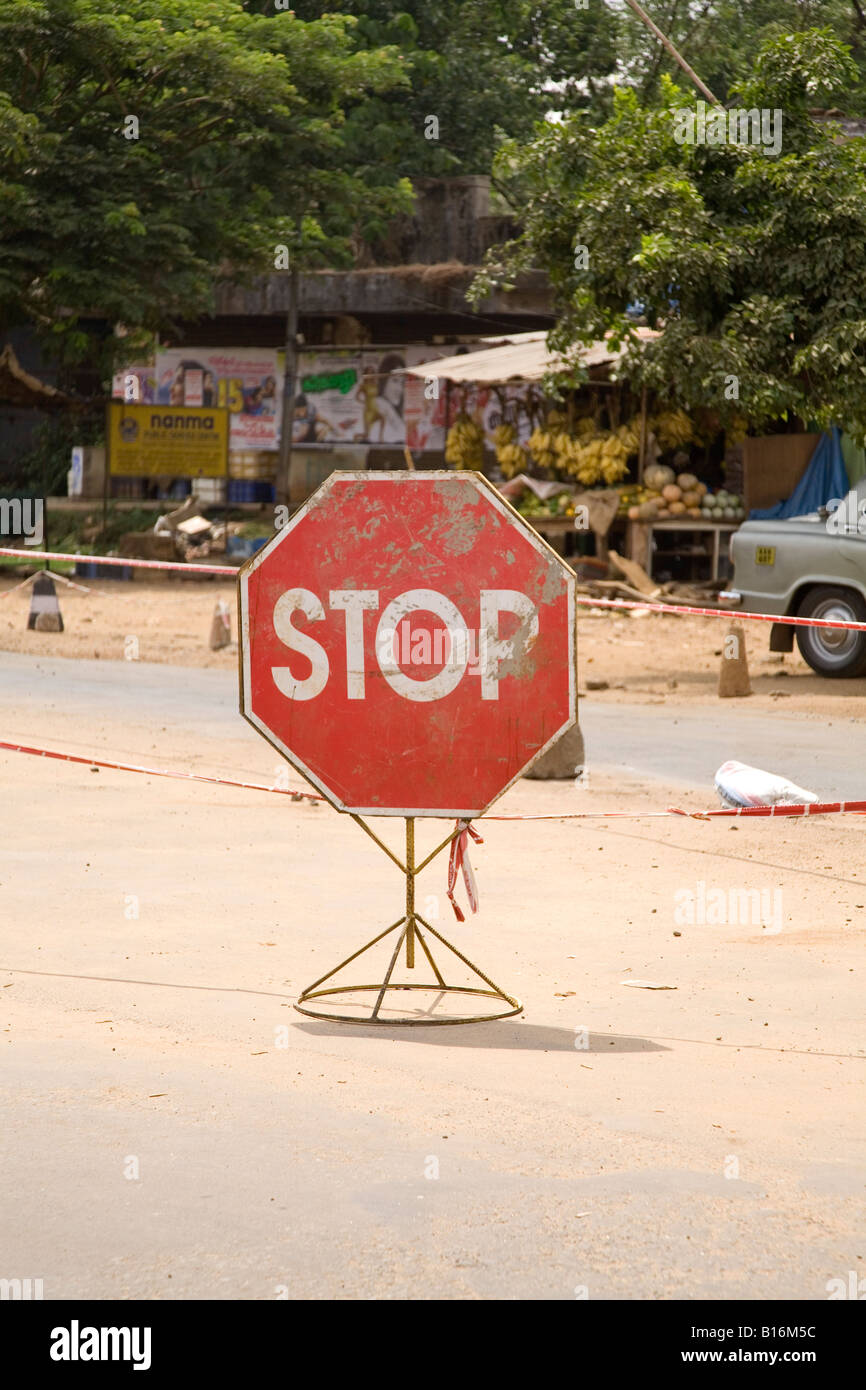stop: (246, 467, 567, 829)
